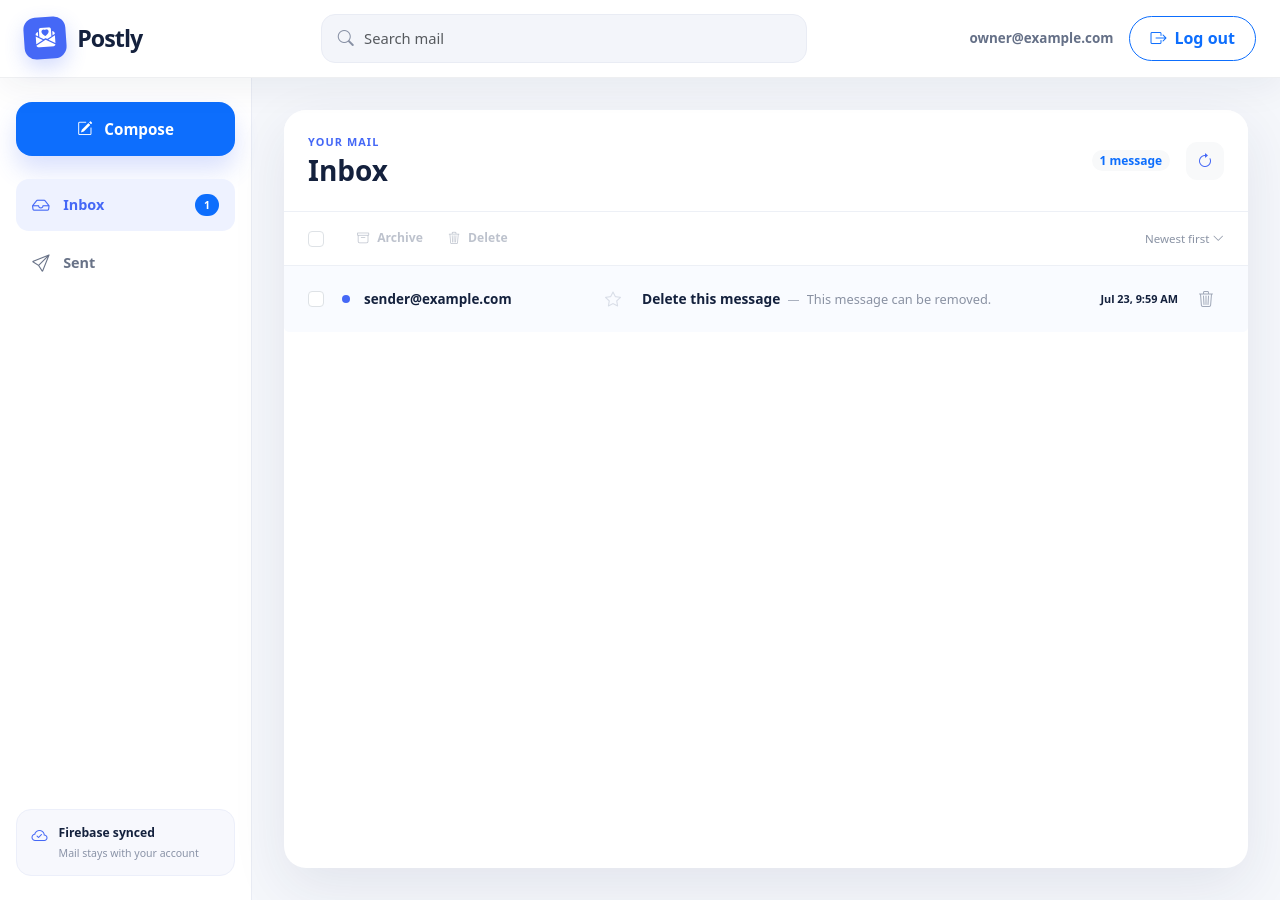
Test: Delete mail component › disables the row delete button while Firebase deletion is pending
The width and height of the screenshot is (1280, 900).
Click the button named "Delete message: Delete this message". click: (1206, 299)
box: [1190,283,1222,315]
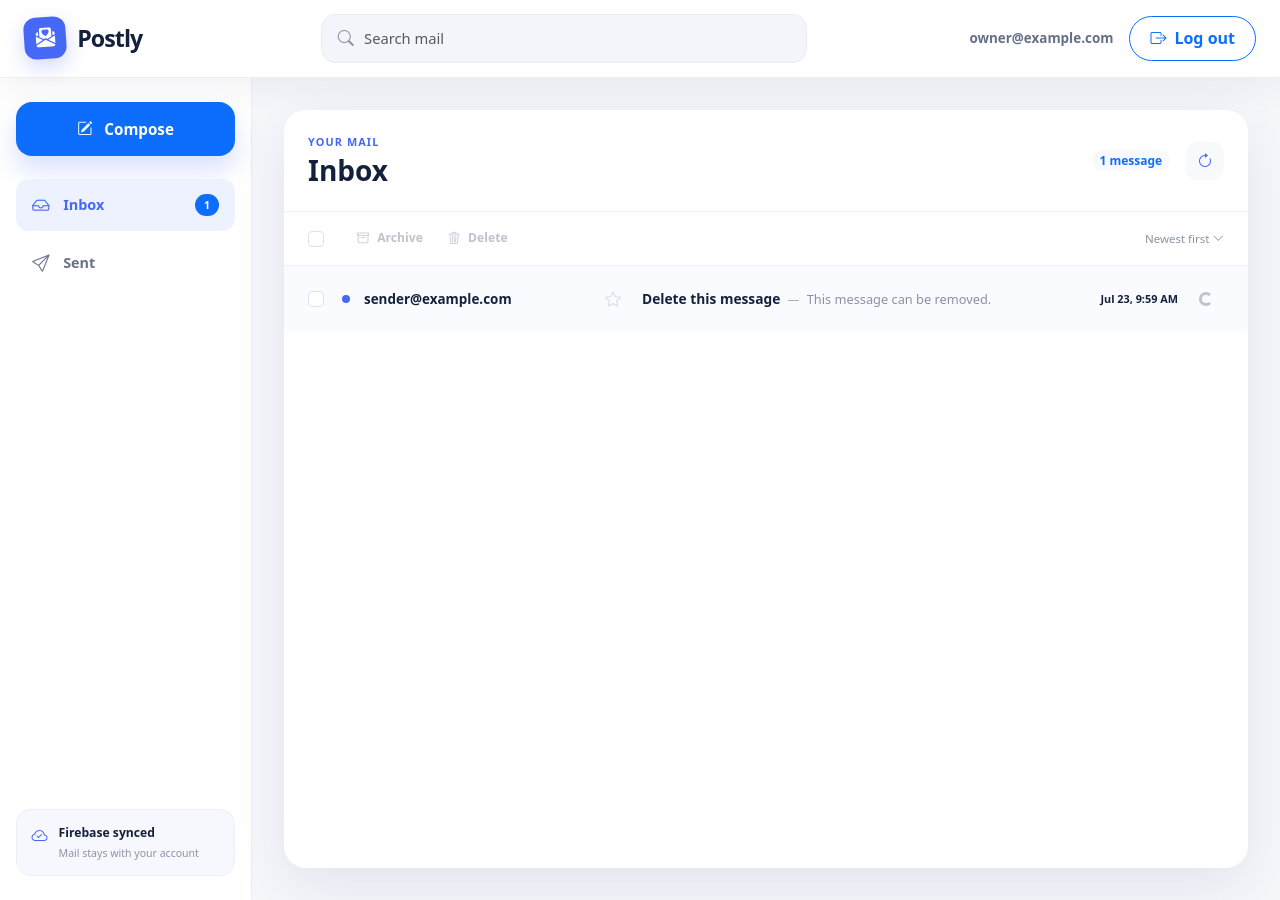
Expected: the heading "Delete this message" is shown, [642,290,780,307]
Result: the button named "Delete message: Delete this message" is disabled at [1190,283,1222,315]
